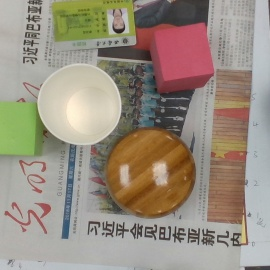card: (50, 2, 139, 48)
chess: (105, 126, 196, 222)
cup: (37, 63, 122, 145)
